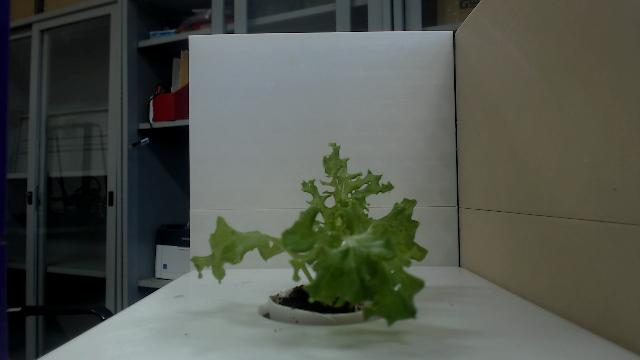Vegetative Stage: (186, 139, 430, 329)
